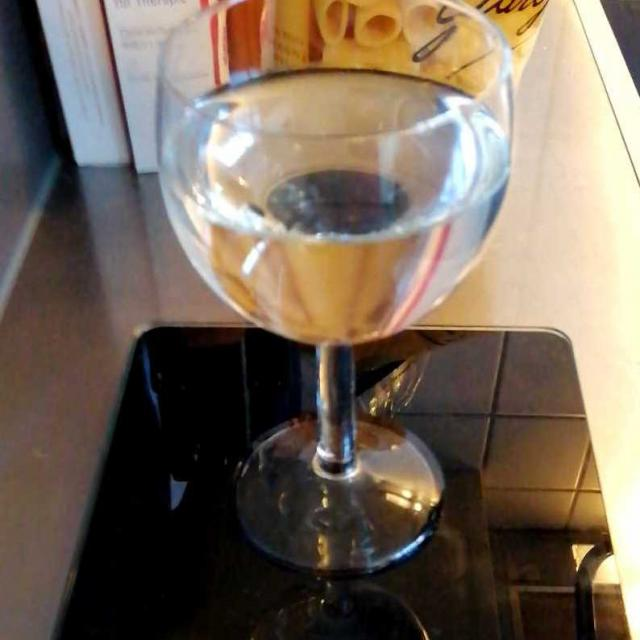water: (153, 54, 521, 341)
